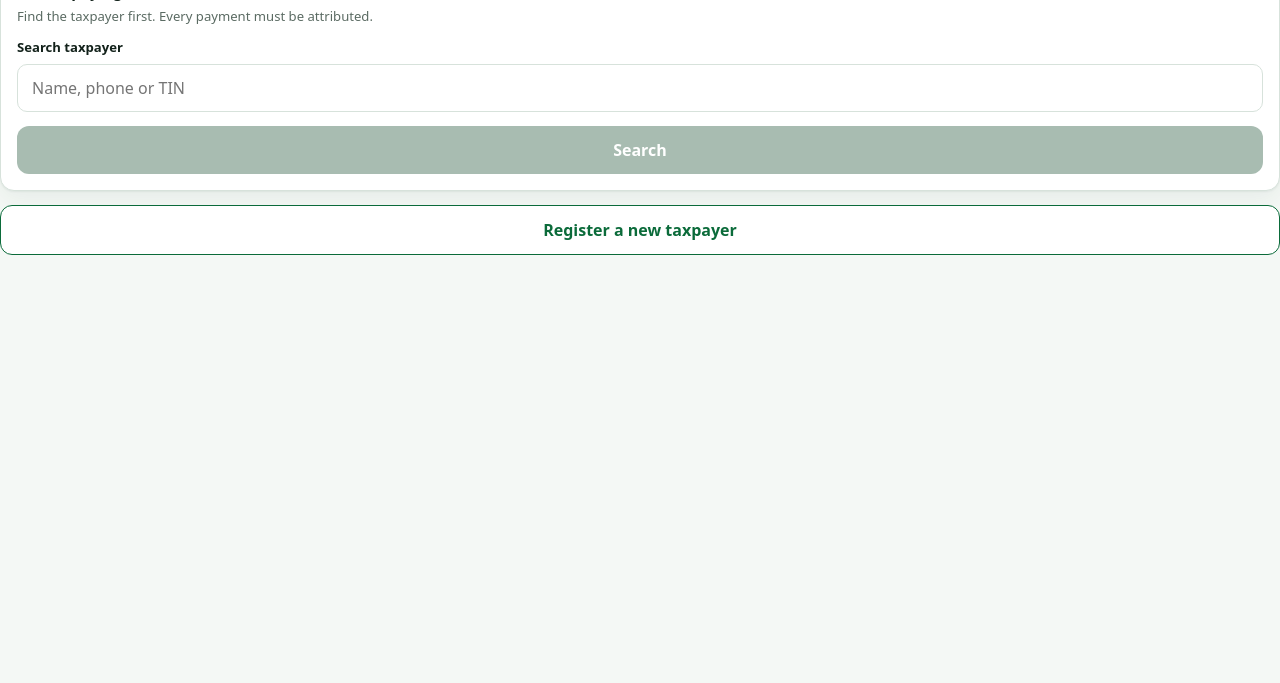
Test: a taxpayer the Schedule exempts, at the counter › leaves an ordinary chargeable assessment exactly as it was
Type "Ladi" into the search field labelled "Search taxpayer" at (640,88), box [17,64,1263,112]
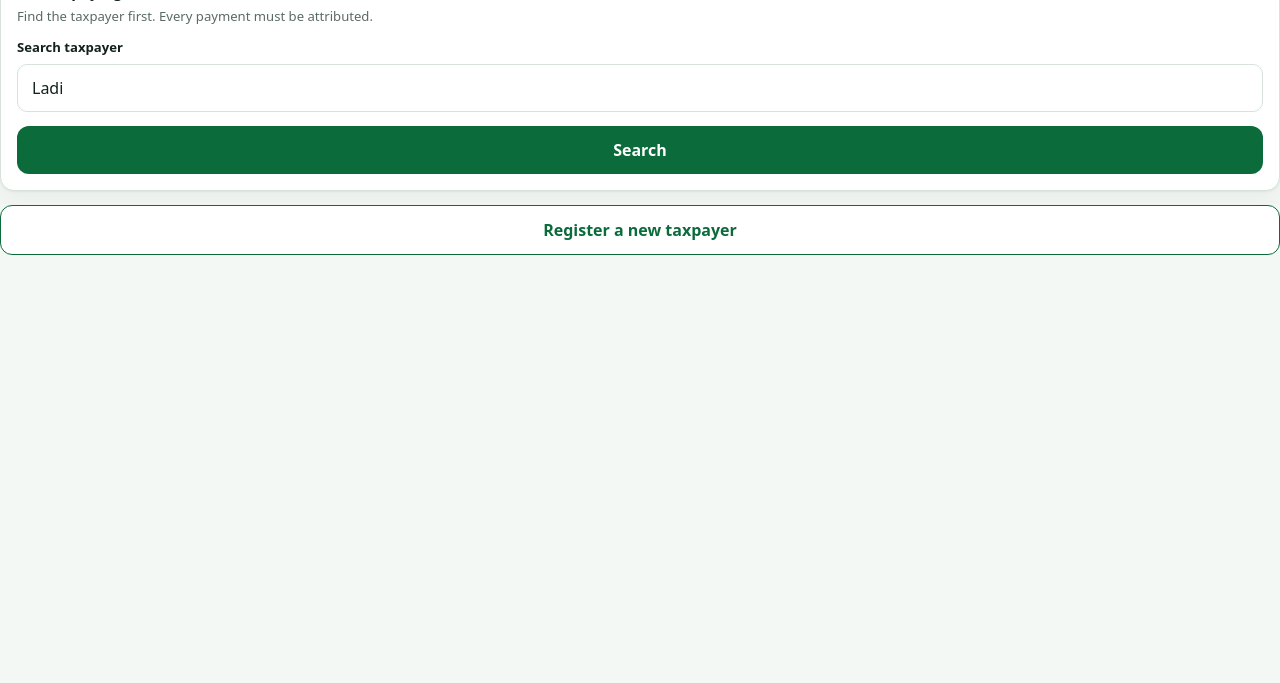
Click the button "Search" at (640,150), box [17,126,1263,174]
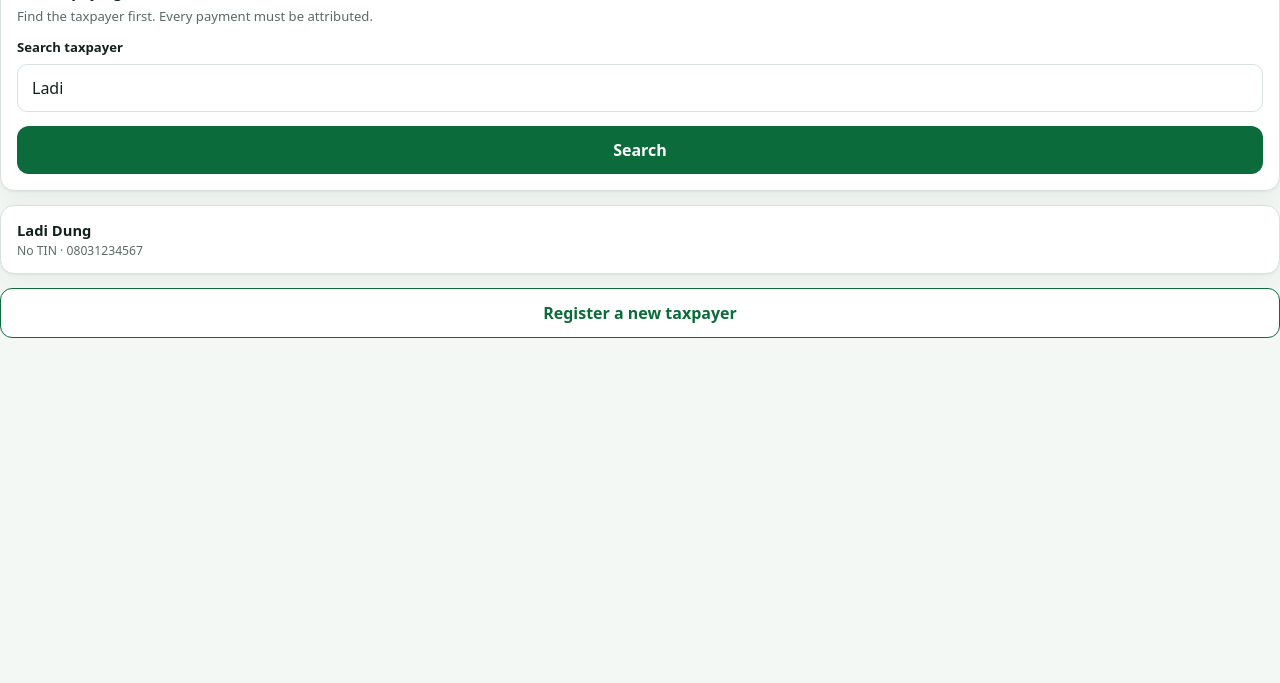
Result: the text "Ladi Dung" is shown
Click the text "Ladi Dung" at (54,230), box [17,220,91,240]
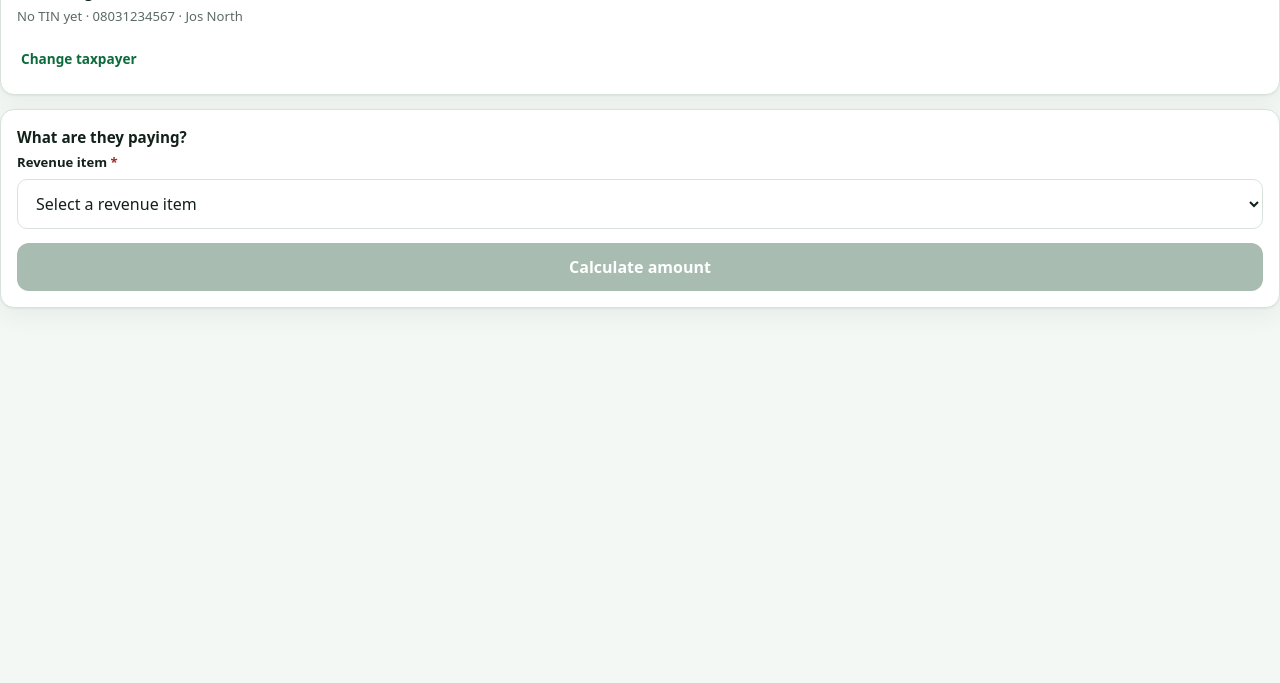
Result: the dropdown labelled "Revenue item *" is shown
Select "Personal Income Tax — Direct Assessment / Self-Assessment" in the dropdown labelled "Revenue item *" at (640,204), box [17,179,1263,229]
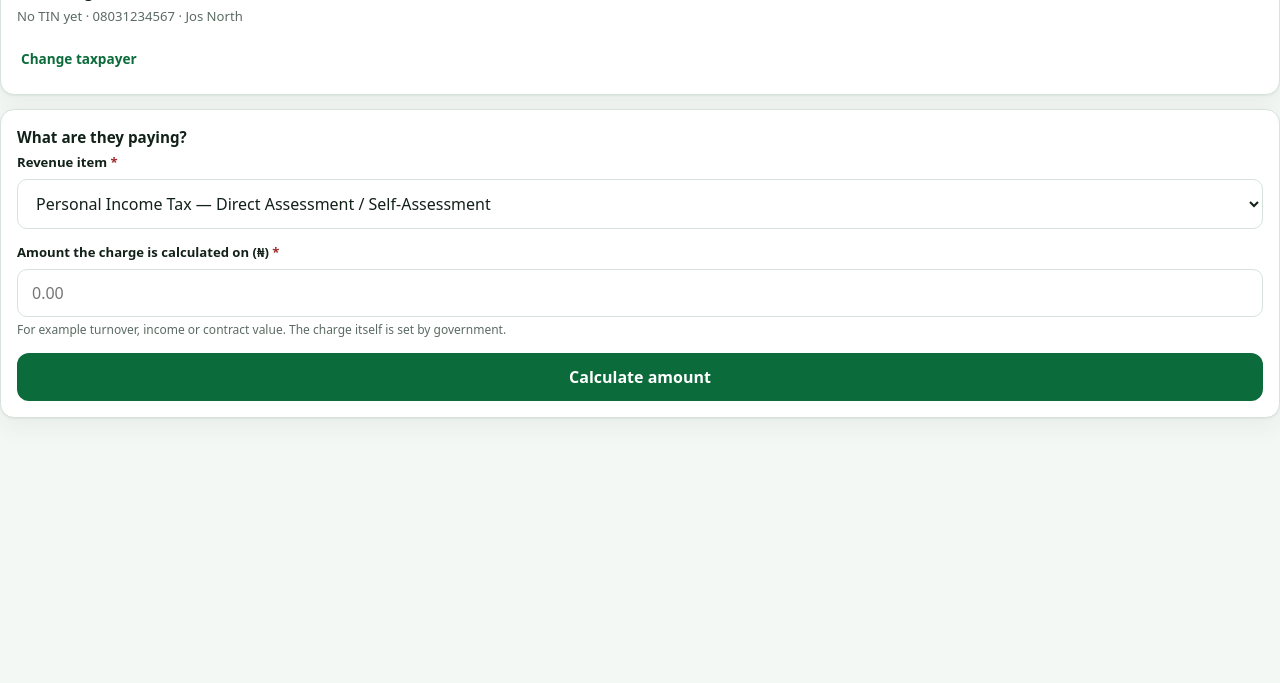
Type "1000000" into the field labelled "Amount the charge is calculated on (₦) *" at (640,293), box [17,269,1263,317]
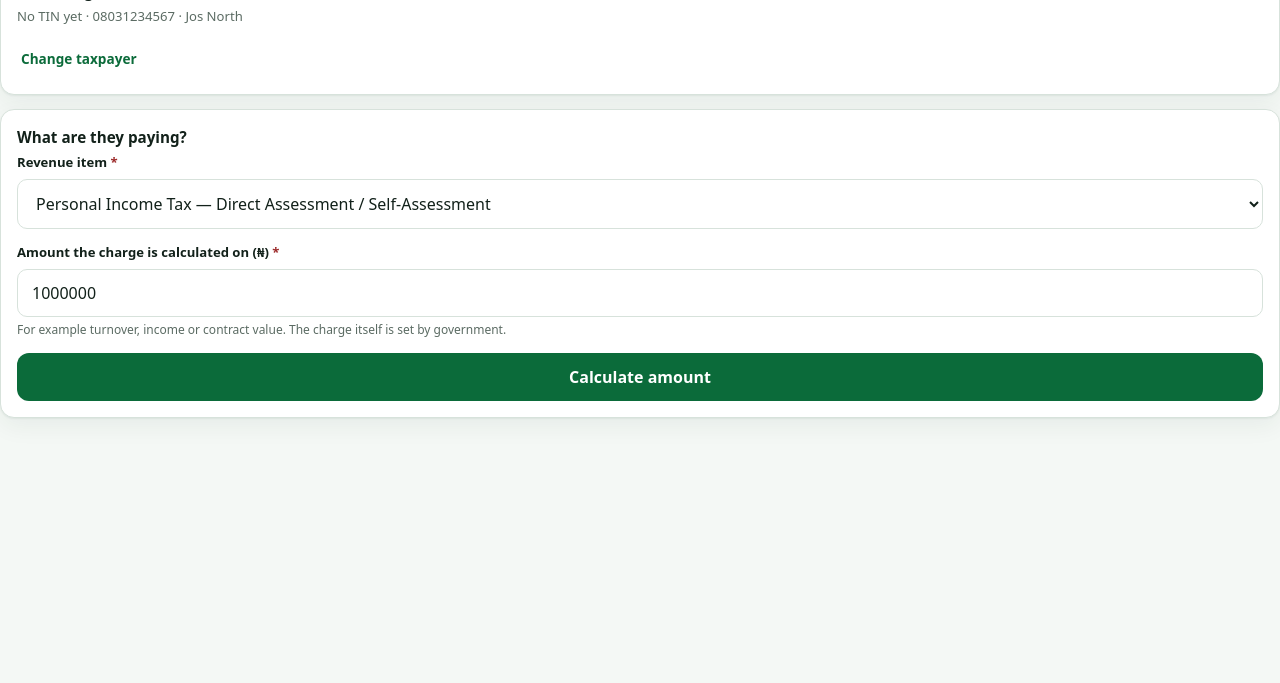
Click the button "Calculate amount" at (640,377), box [17,353,1263,401]
(page scrolled)
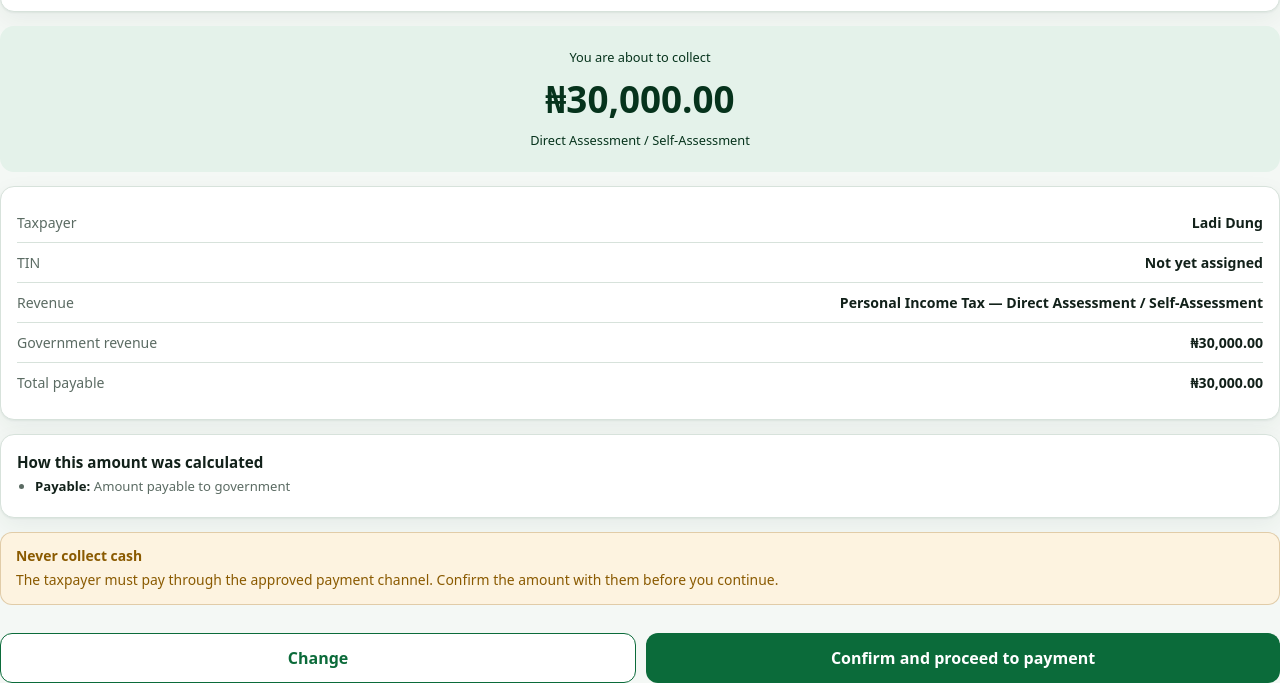
Result: the text "You are about to collect" is shown at [569,48,710,66]
Result: the button "Confirm and proceed to payment" is shown at [646,633,1279,682]
